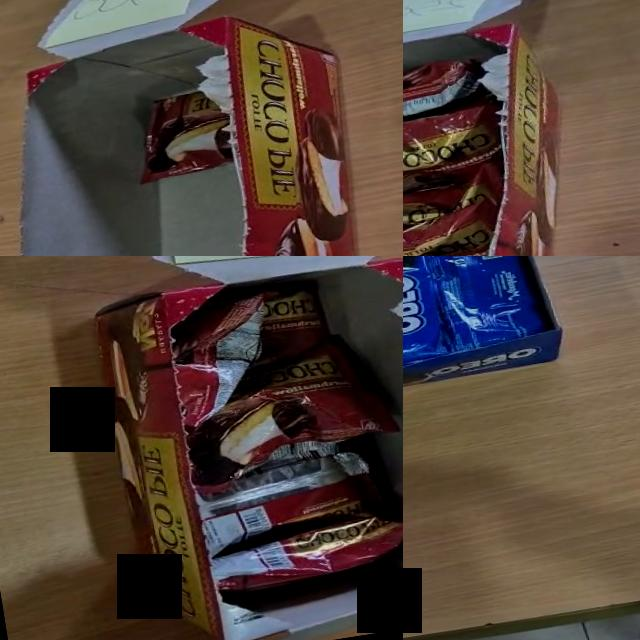Chocopie: (192, 342, 395, 484), (199, 452, 379, 555), (213, 516, 403, 590), (403, 95, 511, 213), (173, 294, 264, 425), (128, 88, 237, 186), (403, 156, 512, 246), (403, 52, 496, 140), (403, 195, 510, 256), (264, 283, 327, 362)
Oreo: (432, 256, 547, 348), (403, 256, 443, 362)
